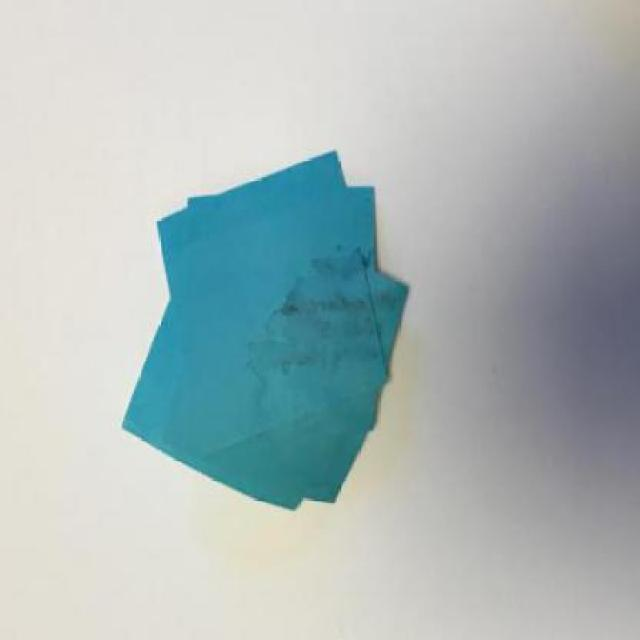paper: (155, 151, 391, 451), (157, 195, 372, 500), (120, 243, 300, 515), (186, 183, 379, 430)
